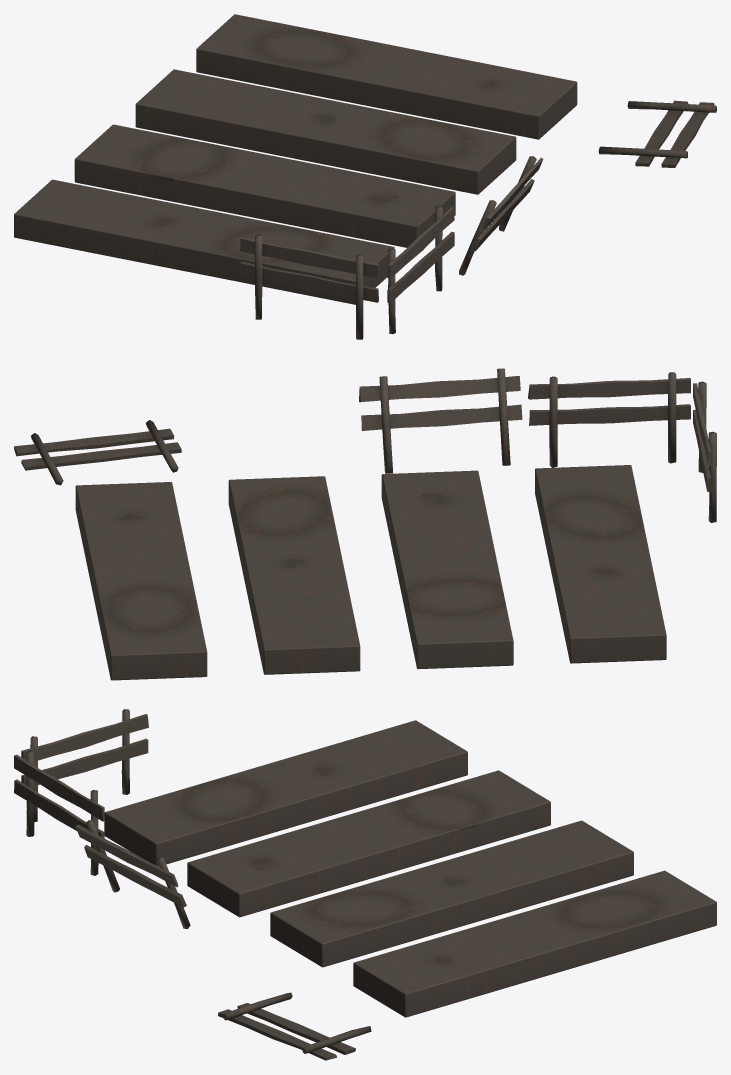
The model's file is hortas.glb.
3 renders of one model, top to bottom at view 1: azimuth 30°, elevation 25°; view 2: azimuth 150°, elevation 25°; view 3: azimuth 270°, elevation 25°, orthographic. The views are drawn at different scales.
Visible parts, largest first — view 1: g_hortas; view 2: g_hortas; view 3: g_hortas.
Part boxes in pixels (bbox=[...]): g_hortas: bbox=[14, 14, 716, 339]; g_hortas: bbox=[14, 368, 716, 680]; g_hortas: bbox=[14, 709, 716, 1060].
Bounding box in the file's own units: 10 × 1.21 × 9.23.
1 material, 1 textured.
